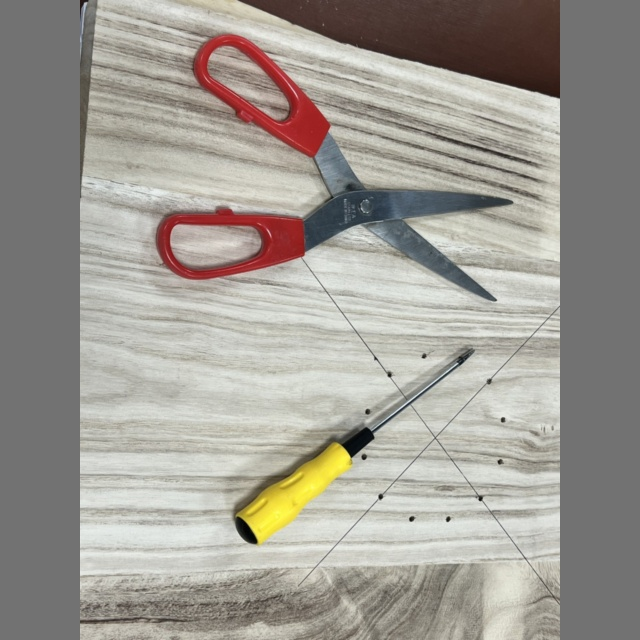scissor: (156, 34, 509, 301)
screwdriver: (236, 350, 474, 544)
